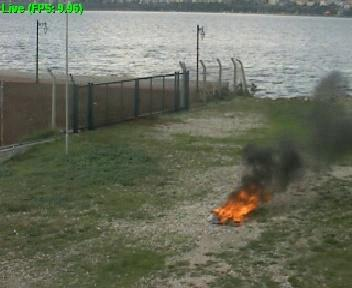fire: (213, 195, 270, 220)
smoke: (250, 146, 298, 188), (310, 104, 342, 138)
